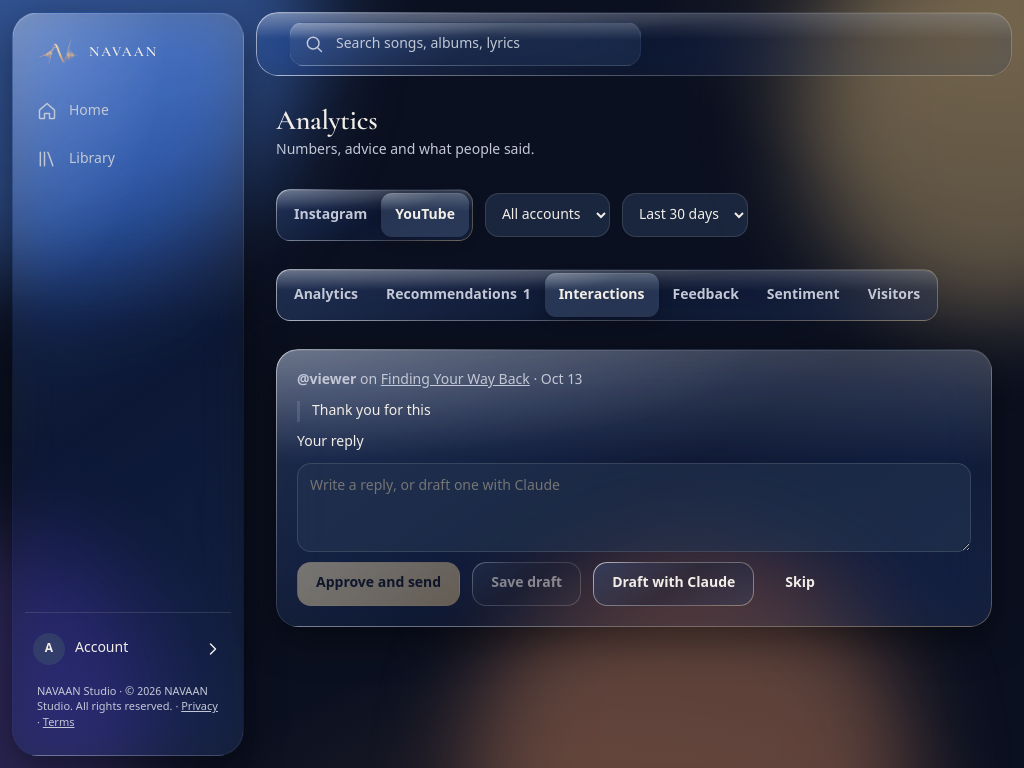
Test: Studio > Analytics > Interactions › drafts on request, shows the draft to edit, and skip removes the comment
The image size is (1024, 768).
Click the button "Draft with Claude" at (674, 584), box [593, 562, 754, 606]
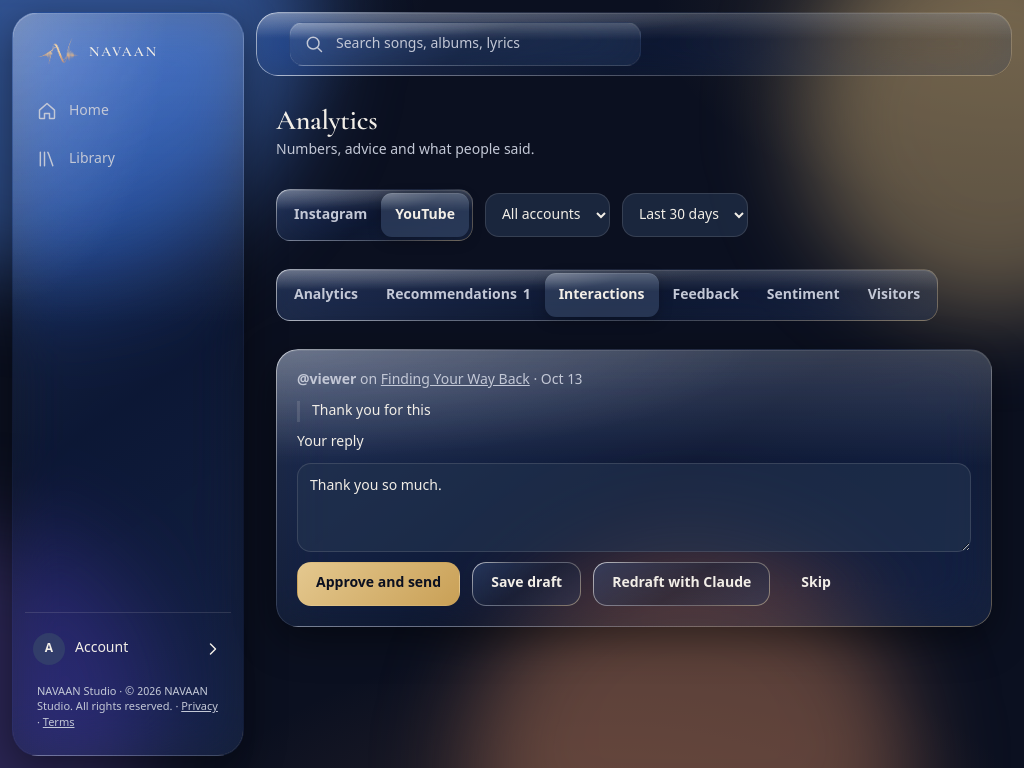
Result: the text box labelled "Your reply" holds "Thank you so much." at [297, 463, 971, 552]
Click the button "Skip" at (816, 584), box [782, 562, 850, 606]
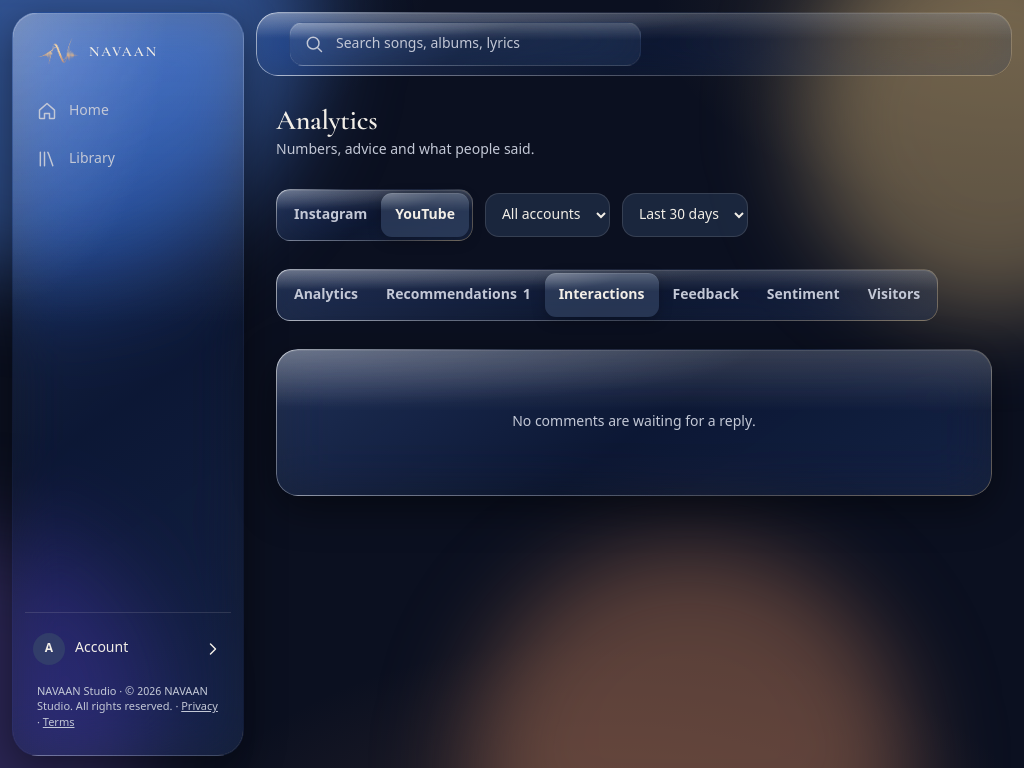
Result: the text "No comments are waiting for a reply." is shown at [512, 413, 756, 432]
